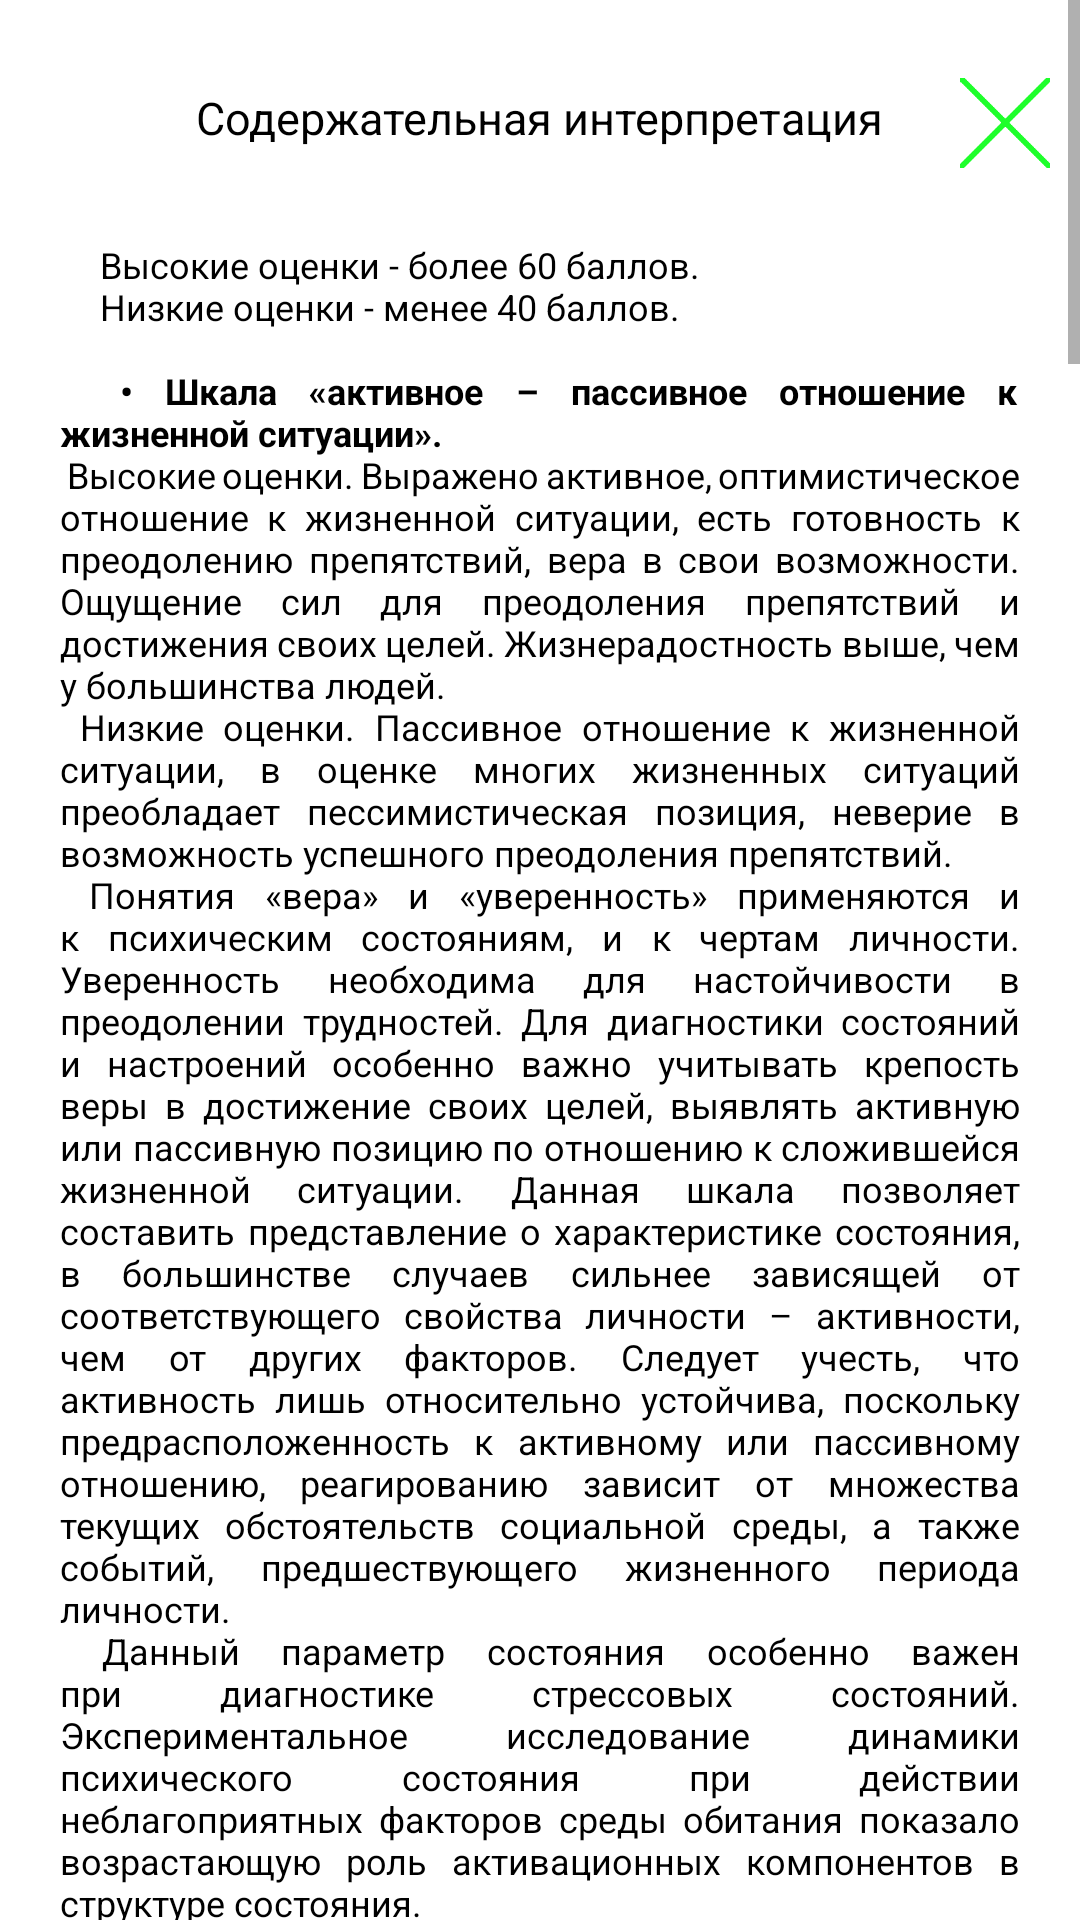

Point at icon controls on the screen. Image size 1080w x 1920h, points as (x=x, y=y).
close: (x=1005, y=123)
